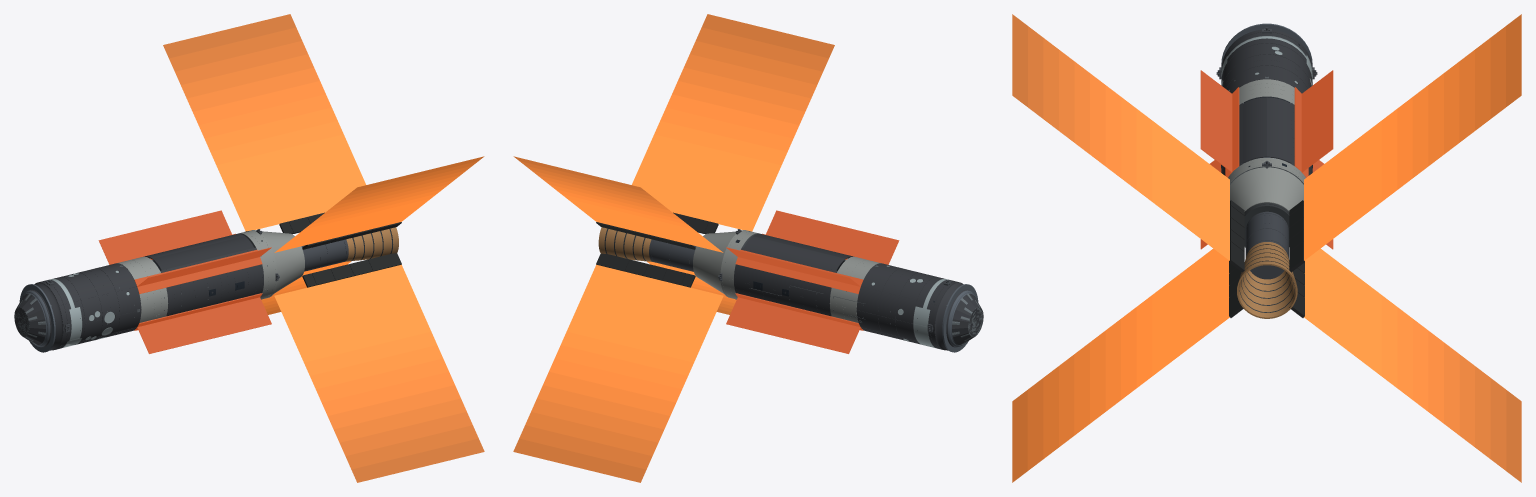
Rendered from wayfarer_exterior_B_medical_88ce19fc_torch_closed.glb.
The picture shows the model from 3 angles, left to right: view 1: azimuth 30°, elevation 25°; view 2: azimuth 150°, elevation 25°; view 3: azimuth 270°, elevation 25°; orthographic projection. The views are drawn at different scales.
Parts seen in each view (by area): view 1: dry:armor, dry:skin_midship, dry:hotfin_220:pleat_13, dry:hotfin_40:pleat_04, dry:hotfin_220:pleat_09, dry:hotfin_40:pleat_02, dry:hotfin_220:pleat_04, dry:hotfin_220:pleat_07, dry:hotfin_220:pleat_11, dry:hotfin_40:pleat_03, dry:hotfin_40:pleat_05, dry:hotfin_40:pleat_08 (+47 smaller); view 2: dry:armor, dry:skin_midship, dry:hotfin_320:pleat_13, dry:hotfin_140:pleat_04, dry:hotfin_320:pleat_09, dry:hotfin_140:pleat_02, dry:hotfin_320:pleat_04, dry:hotfin_320:pleat_07, dry:hotfin_320:pleat_11, dry:hotfin_140:pleat_03, dry:hotfin_140:pleat_05, dry:hotfin_140:pleat_08 (+47 smaller); view 3: dry:armor, dry:nozzle, dry:thrust_cone, dry:reactor, dry:door_port, dry:door_starboard, dry:hotfin_220:pleat_03, dry:hotfin_320:pleat_03, dry:hotfin_40:pleat_05, dry:hotfin_40:pleat_07, dry:hotfin_140:pleat_05, dry:hotfin_140:pleat_07 (+63 smaller).
Boxes of the visible parts, x1,y1,x2,y2 form: dry:armor: [23, 263, 141, 350]; dry:skin_midship: [160, 247, 263, 316]; dry:hotfin_220:pleat_13: [351, 438, 484, 482]; dry:hotfin_40:pleat_04: [216, 134, 349, 178]; dry:hotfin_220:pleat_09: [327, 385, 460, 429]; dry:hotfin_40:pleat_02: [228, 161, 361, 205]; dry:hotfin_220:pleat_04: [298, 318, 431, 362]; dry:hotfin_220:pleat_07: [316, 358, 448, 402]; dry:hotfin_220:pleat_11: [339, 412, 472, 455]; dry:hotfin_40:pleat_03: [222, 147, 355, 191]; dry:hotfin_40:pleat_05: [210, 121, 343, 165]; dry:hotfin_40:pleat_08: [193, 81, 325, 125]; dry:armor: [856, 263, 974, 350]; dry:skin_midship: [734, 247, 837, 316]; dry:hotfin_320:pleat_13: [513, 438, 646, 482]; dry:hotfin_140:pleat_04: [648, 134, 781, 178]; dry:hotfin_320:pleat_09: [537, 385, 670, 429]; dry:hotfin_140:pleat_02: [636, 161, 769, 205]; dry:hotfin_320:pleat_04: [566, 318, 699, 362]; dry:hotfin_320:pleat_07: [549, 358, 681, 402]; dry:hotfin_320:pleat_11: [525, 412, 658, 455]; dry:hotfin_140:pleat_03: [642, 147, 775, 191]; dry:hotfin_140:pleat_05: [654, 121, 787, 165]; dry:hotfin_140:pleat_08: [672, 81, 804, 125]; dry:armor: [1221, 29, 1312, 93]; dry:nozzle: [1237, 242, 1297, 318]; dry:thrust_cone: [1230, 167, 1303, 247]; dry:reactor: [1245, 211, 1288, 279]; dry:door_port: [1242, 97, 1266, 163]; dry:door_starboard: [1267, 97, 1291, 163]; dry:hotfin_220:pleat_03: [1167, 271, 1183, 364]; dry:hotfin_320:pleat_03: [1350, 271, 1366, 364]; dry:hotfin_40:pleat_05: [1381, 109, 1397, 201]; dry:hotfin_40:pleat_07: [1412, 85, 1428, 177]; dry:hotfin_140:pleat_05: [1136, 109, 1152, 201]; dry:hotfin_140:pleat_07: [1105, 85, 1121, 177].
Bounding box in the file's own units: 54.5 × 42.11 × 50.18.
